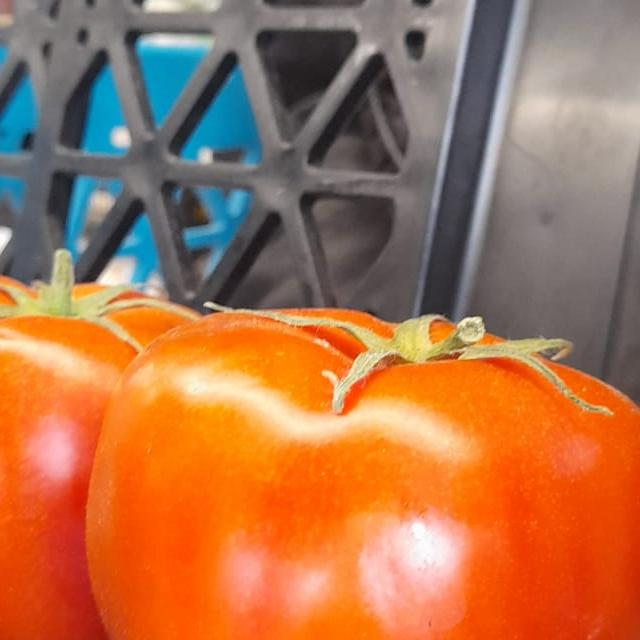tomato: (73, 276, 640, 640), (0, 236, 239, 640)
